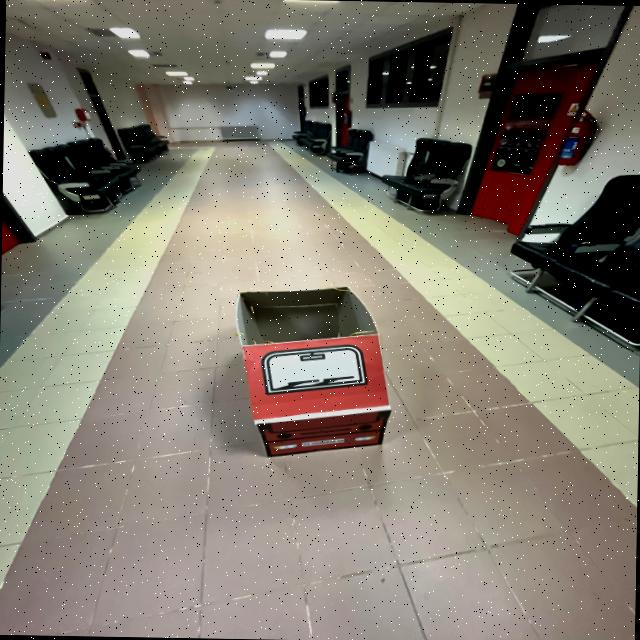red_car: (220, 273, 404, 478)
